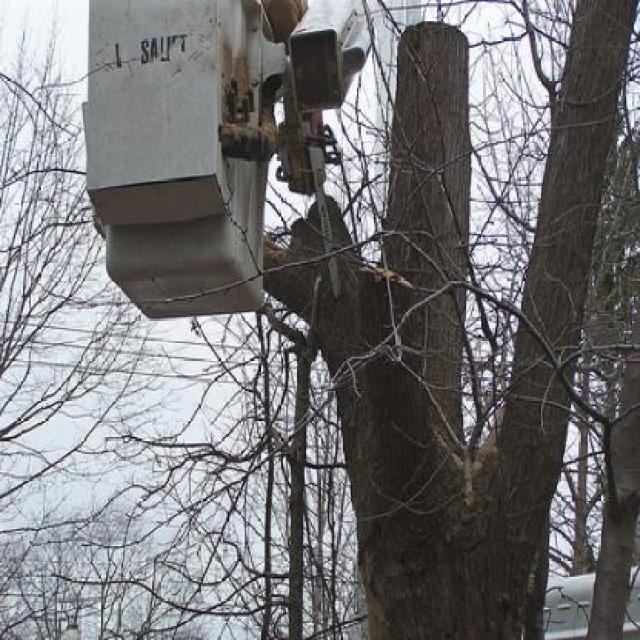Chainsaw: (276, 97, 349, 306)
